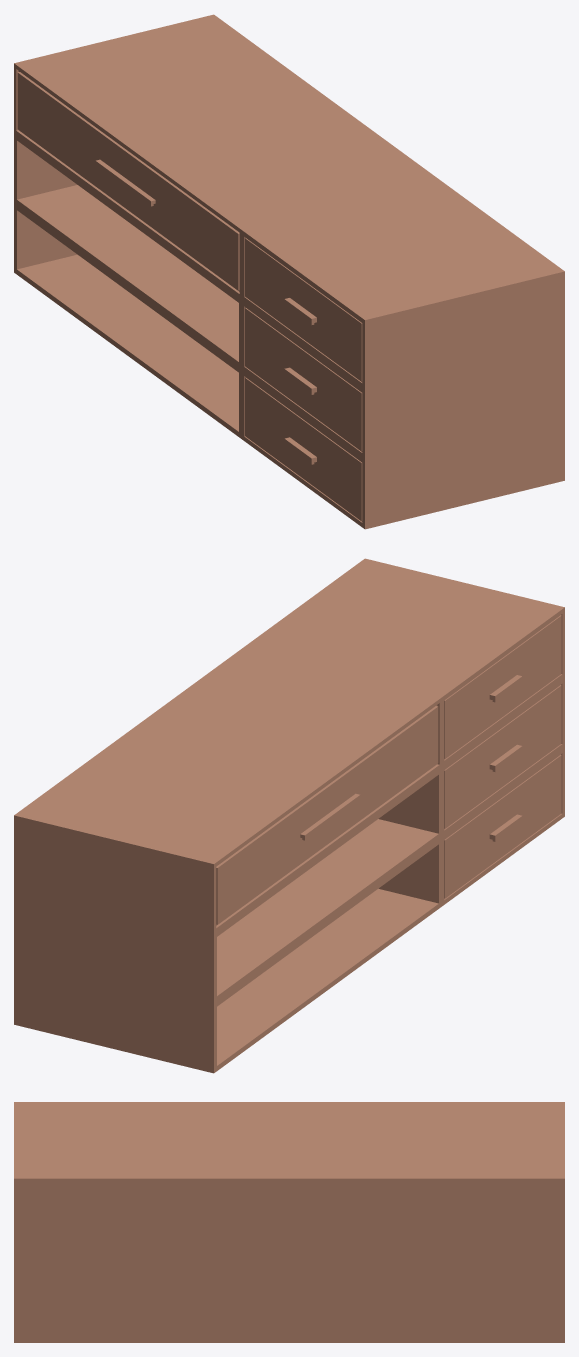
File: CommodeChambre.fbx
3 views of the same model, one above another, from view 1: azimuth 30°, elevation 25°; view 2: azimuth 150°, elevation 25°; view 3: azimuth 270°, elevation 25° (orthographic). The views are drawn at different scales.
Parts seen in each view (by area): view 1: Cube.003; view 2: Cube.003; view 3: Cube.003.
Boxes of the visible parts, x1=… form: Cube.003: x1=14, y1=14, x2=564, y2=529; Cube.003: x1=14, y1=558, x2=564, y2=1073; Cube.003: x1=14, y1=1102, x2=564, y2=1342.
Size of the model in its own units: 205 by 200 by 608.
